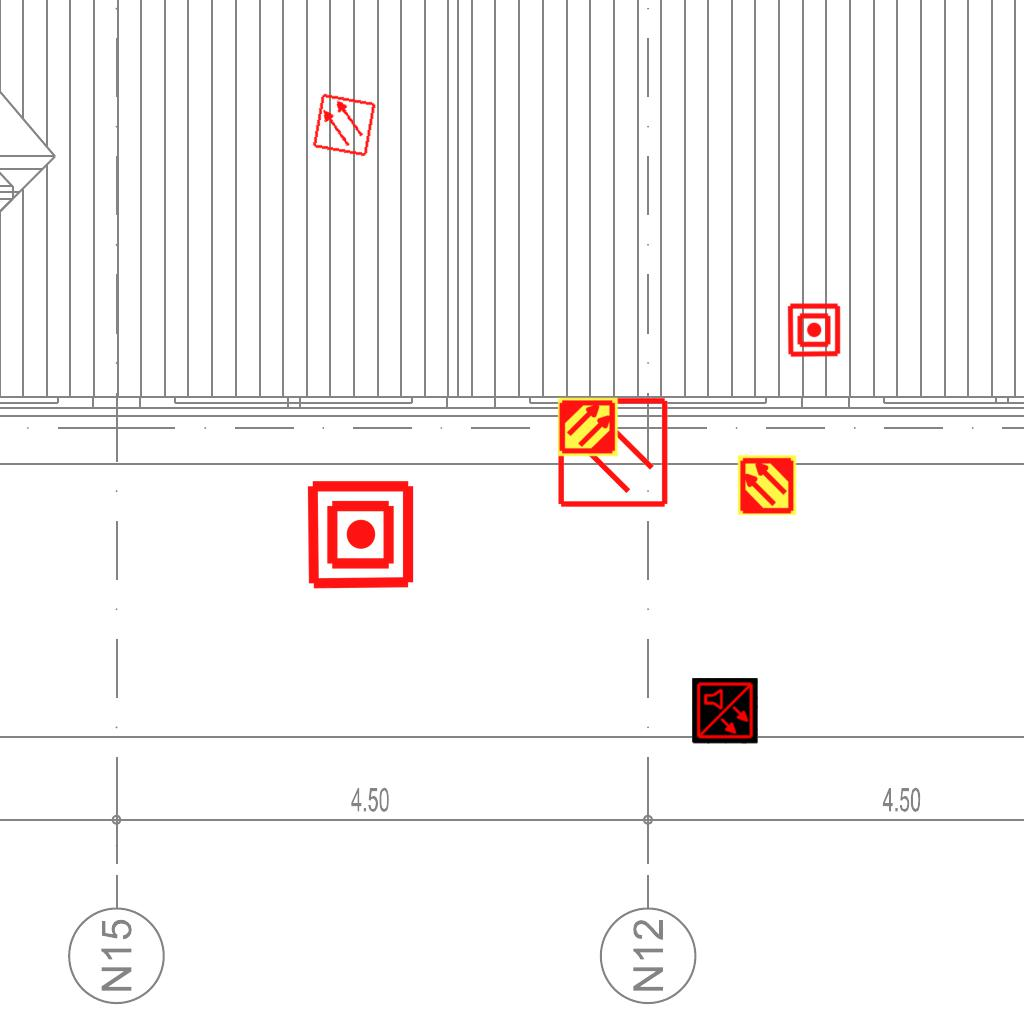ASR_Ansaugrauchmelder: (736, 454, 798, 516), (557, 396, 619, 458)
NAM-Nichtautomatischer_Melder: (304, 478, 417, 591), (786, 302, 842, 358)
OKW_Multisensormelder_(Kombination_optischer_Rauch-Kahlenmonoxid_Waerme-Melder): (692, 678, 758, 744)
RMO_Rauchmelder_optischer: (556, 396, 669, 509), (311, 92, 377, 158)
